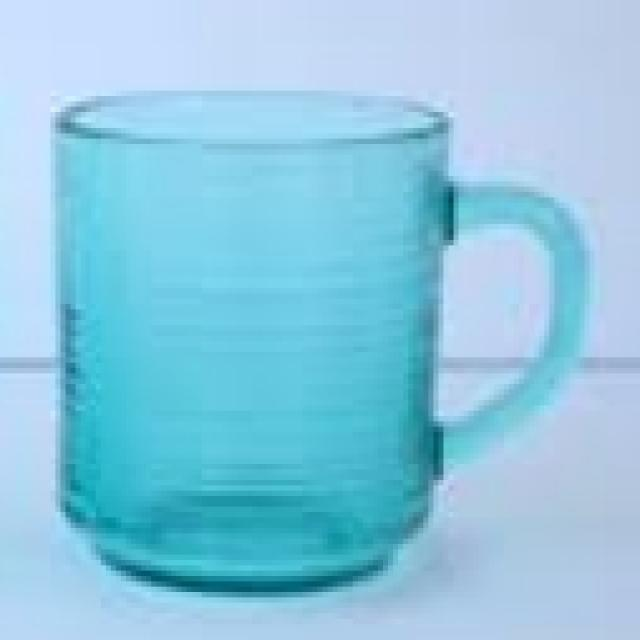taza: (49, 83, 601, 600)
